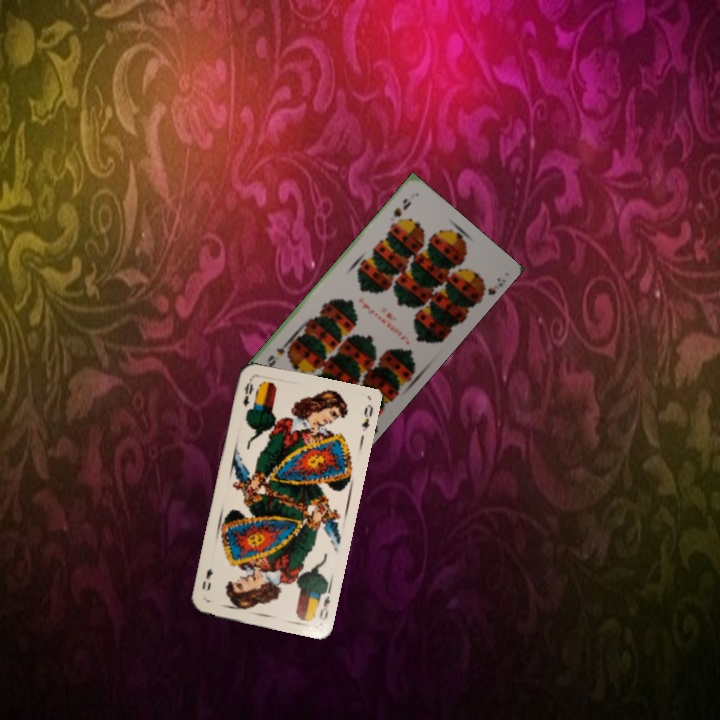EO: (314, 585, 333, 623), (239, 375, 257, 409)
S9: (389, 194, 414, 220)
